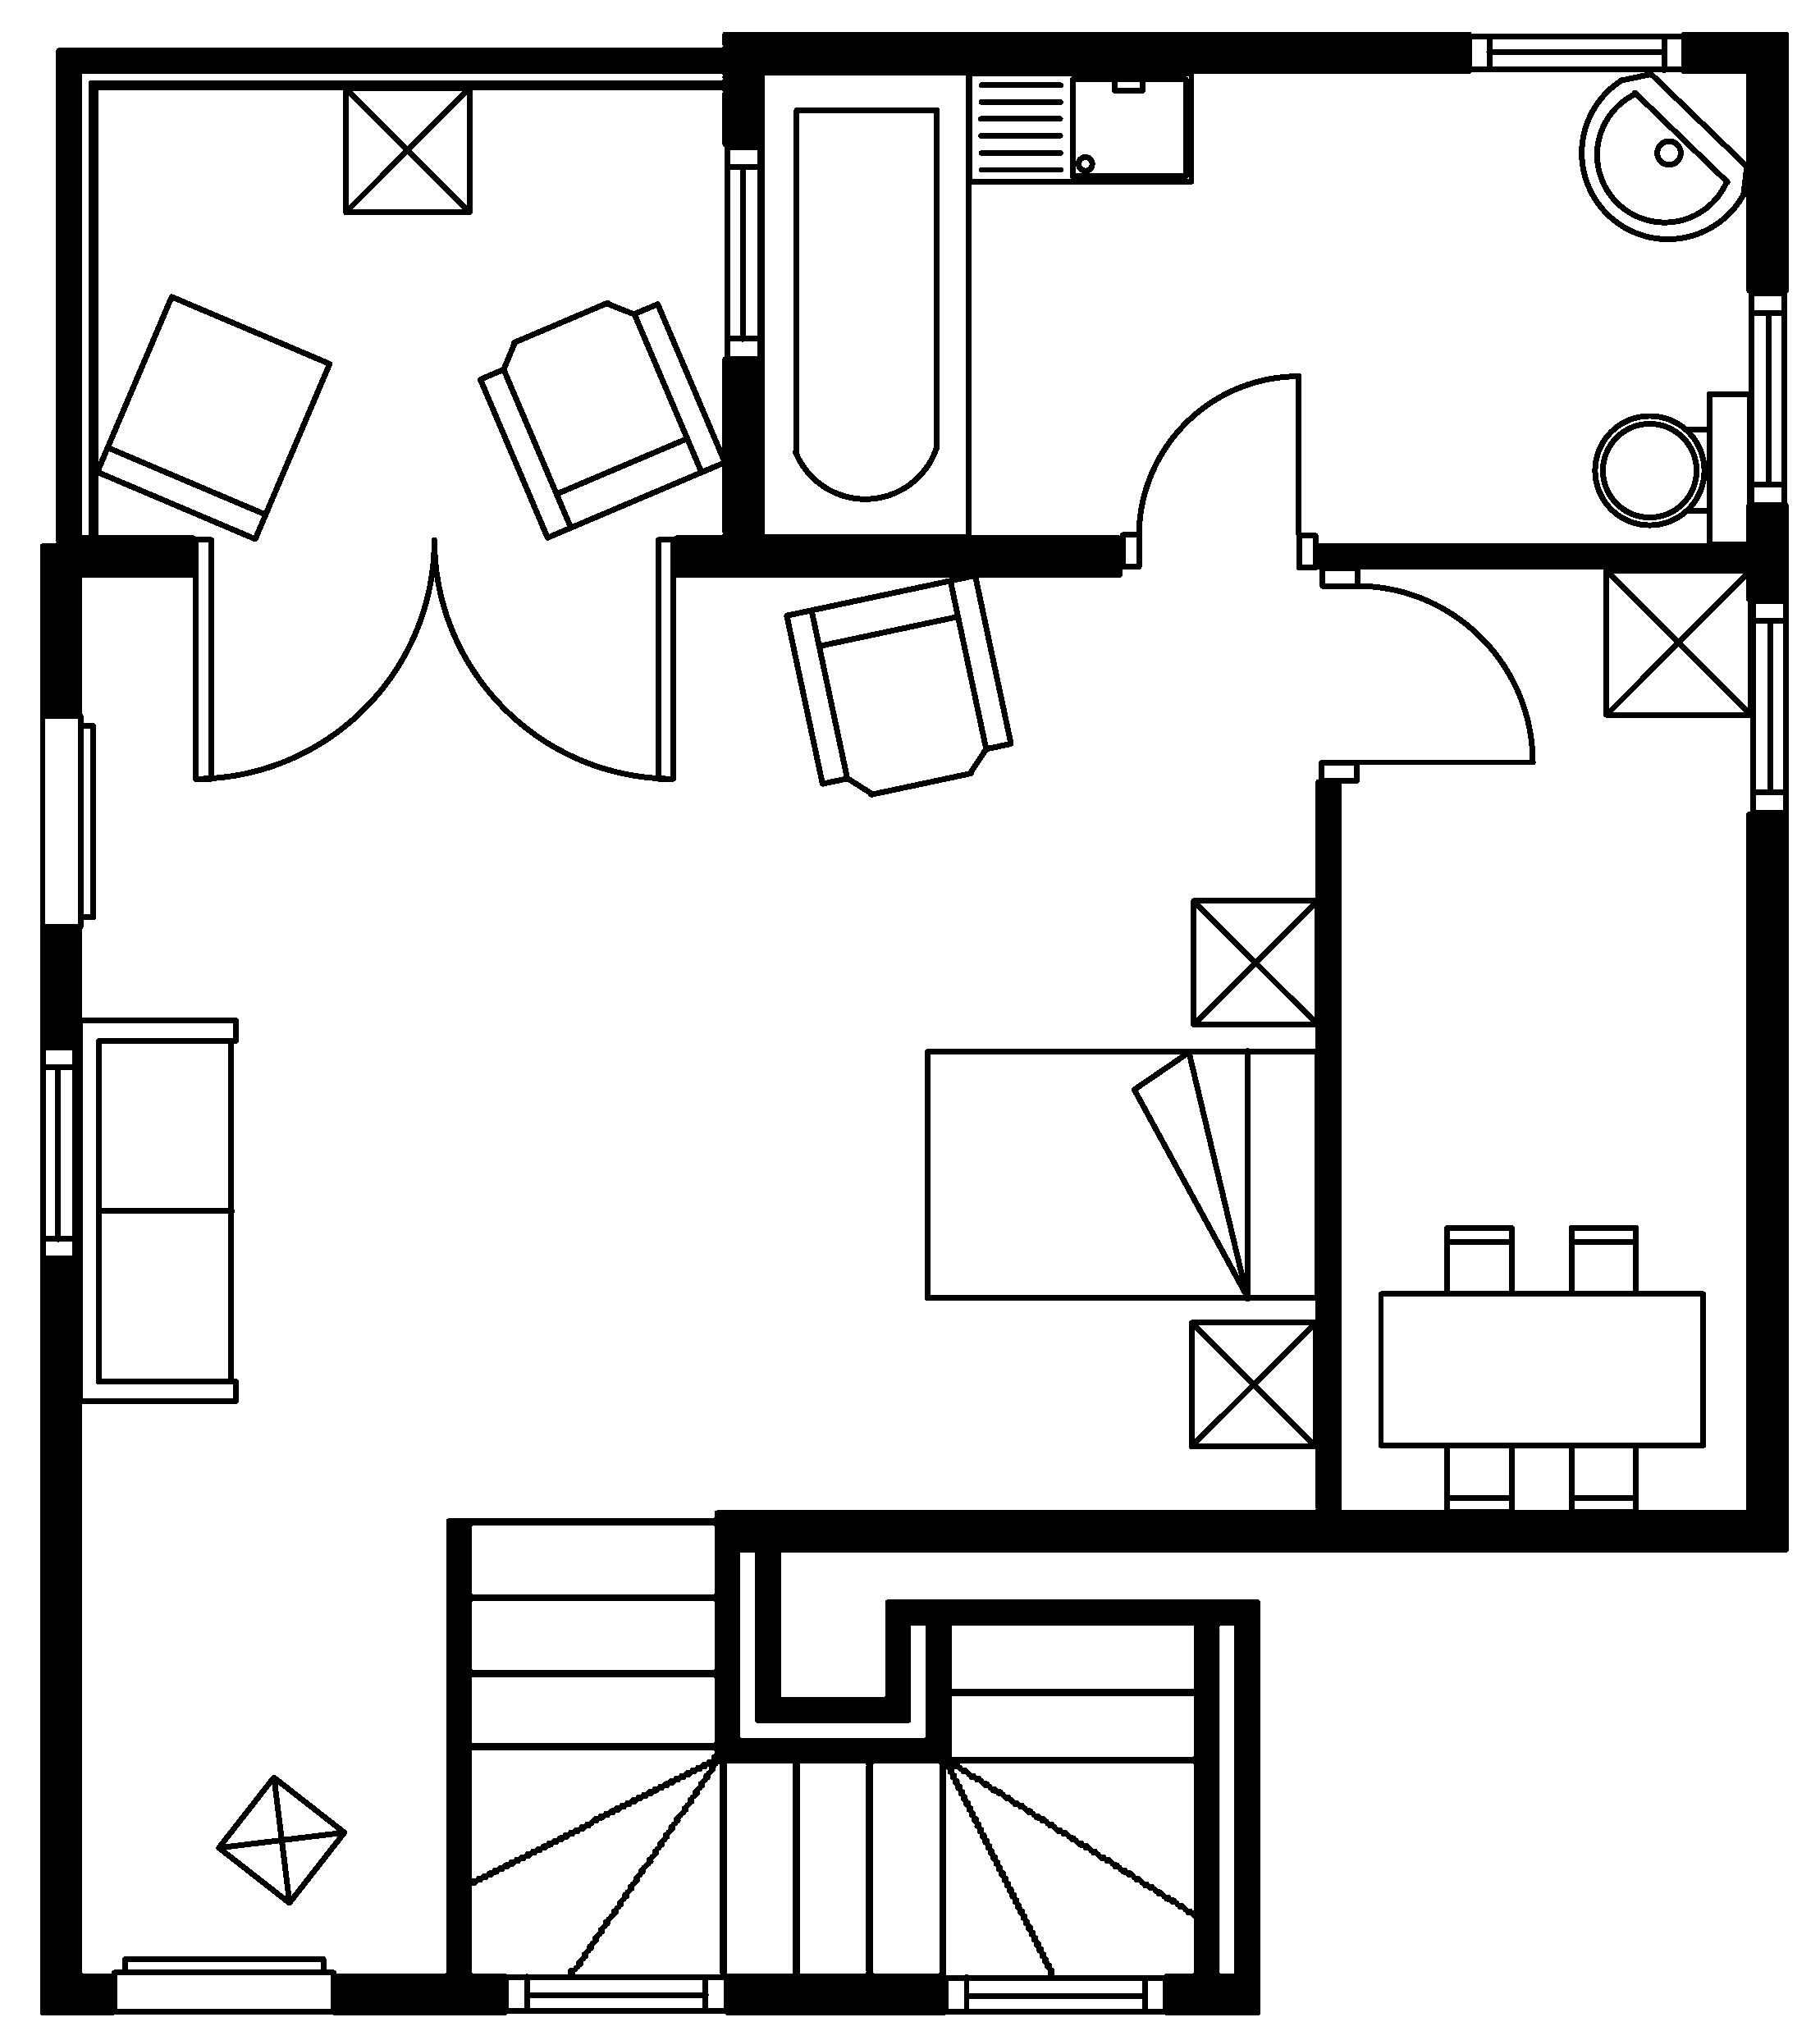armchair: (476, 299, 727, 541), (782, 571, 1014, 798)
bed: (922, 1047, 1321, 1302)
coffee_table: (1602, 566, 1753, 719), (214, 1773, 348, 1906), (1186, 1318, 1319, 1449), (1189, 896, 1321, 1028), (341, 84, 473, 214)
dining_table: (1376, 1223, 1706, 1516)
large_sink: (1592, 388, 1753, 548)
large_sofa: (76, 1015, 239, 1404)
sink: (964, 69, 1195, 184)
small_sink: (1578, 70, 1750, 241)
small_sofa: (93, 292, 332, 543)
tub: (757, 69, 971, 539)
